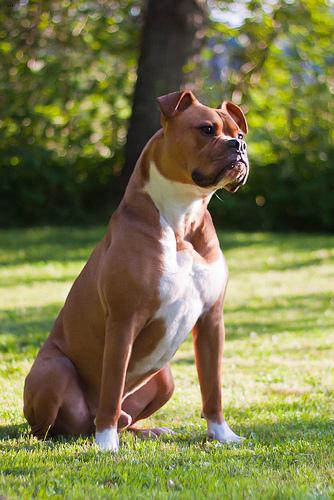dog-american_bulldog: (155, 88, 247, 191)
